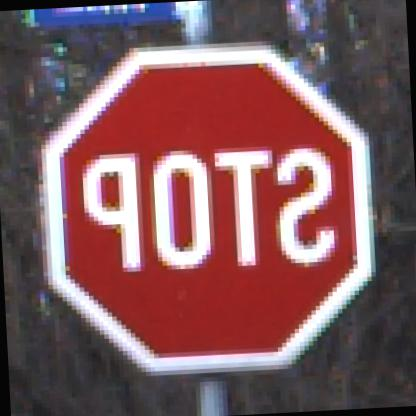stop: (29, 26, 386, 388)
